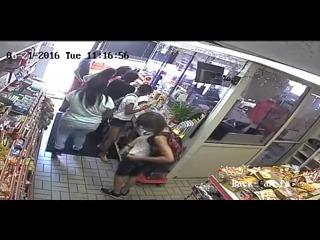shoplifting: (103, 113, 185, 200)
